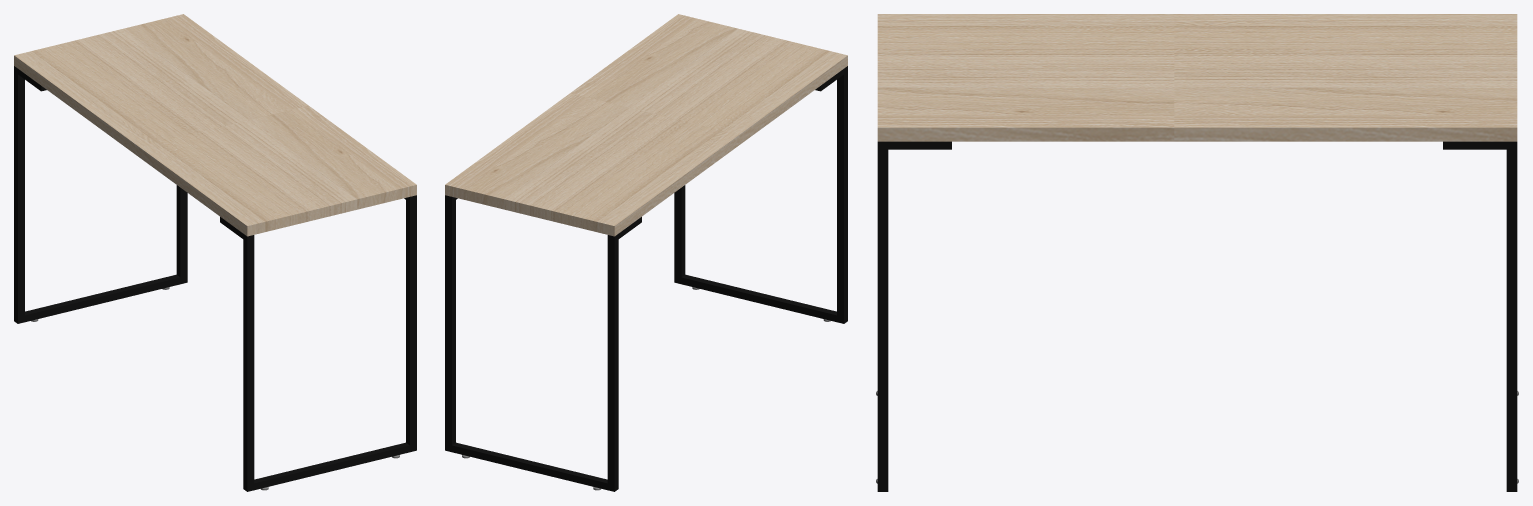
File: Arcpe.glb
The picture shows the model from 3 angles, left to right: view 1: azimuth 30°, elevation 25°; view 2: azimuth 150°, elevation 25°; view 3: azimuth 270°, elevation 25°; orthographic projection. The views are drawn at different scales.
Visible parts, largest first — view 1: Component#22, Component#21_1, Component#21; view 2: Component#22, Component#21, Component#21_1; view 3: Component#22, Component#21, Component#21_1.
Boxes of the visible parts, left/top/right/bottom form: Component#22: left=14, top=14, right=416, bottom=236; Component#21_1: left=220, top=195, right=416, bottom=491; Component#21: left=14, top=66, right=187, bottom=323; Component#22: left=445, top=14, right=847, bottom=236; Component#21: left=445, top=195, right=641, bottom=491; Component#21_1: left=674, top=66, right=847, bottom=323; Component#22: left=877, top=14, right=1517, bottom=141; Component#21: left=1443, top=141, right=1517, bottom=491; Component#21_1: left=877, top=141, right=951, bottom=491.
Size of the model in its own units: 0.504 by 0.7616 by 1.21.
Materials: 685 (6 with a texture image).
